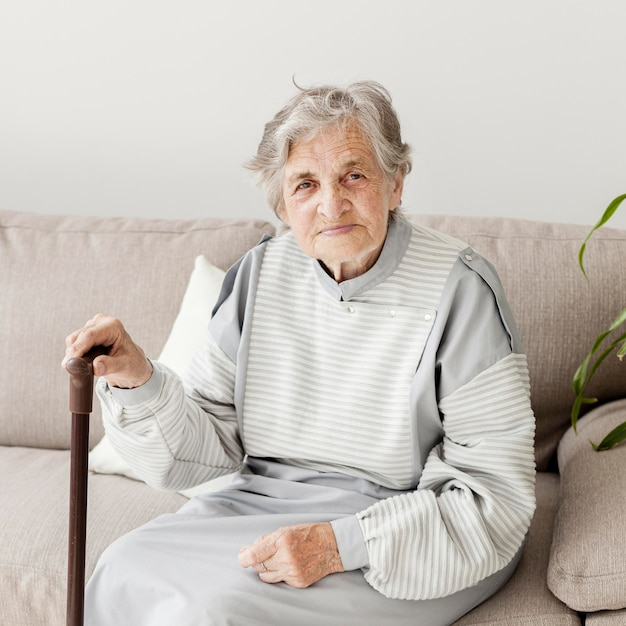young: (242, 70, 409, 266)
